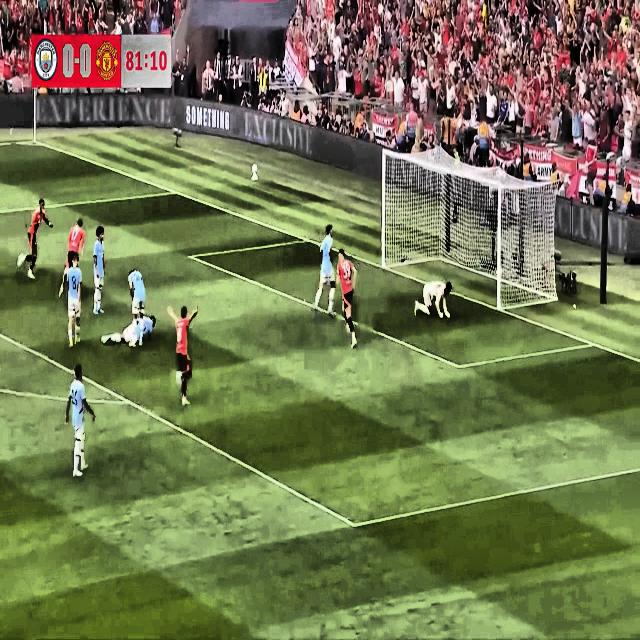ball: (493, 263, 503, 290)
goal_keeper: (409, 264, 456, 336)
players: (63, 358, 98, 486), (162, 299, 203, 408), (331, 244, 366, 356), (16, 196, 56, 281), (57, 238, 85, 355), (310, 216, 340, 316), (100, 305, 160, 351), (62, 206, 91, 298), (125, 261, 149, 351), (89, 220, 108, 321)
